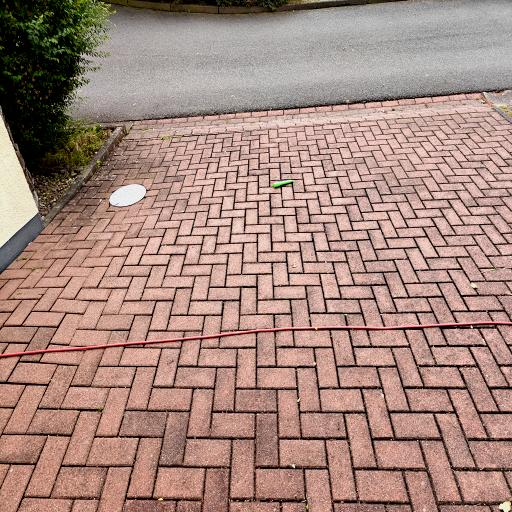Probe-Detection: (273, 180, 293, 188)
